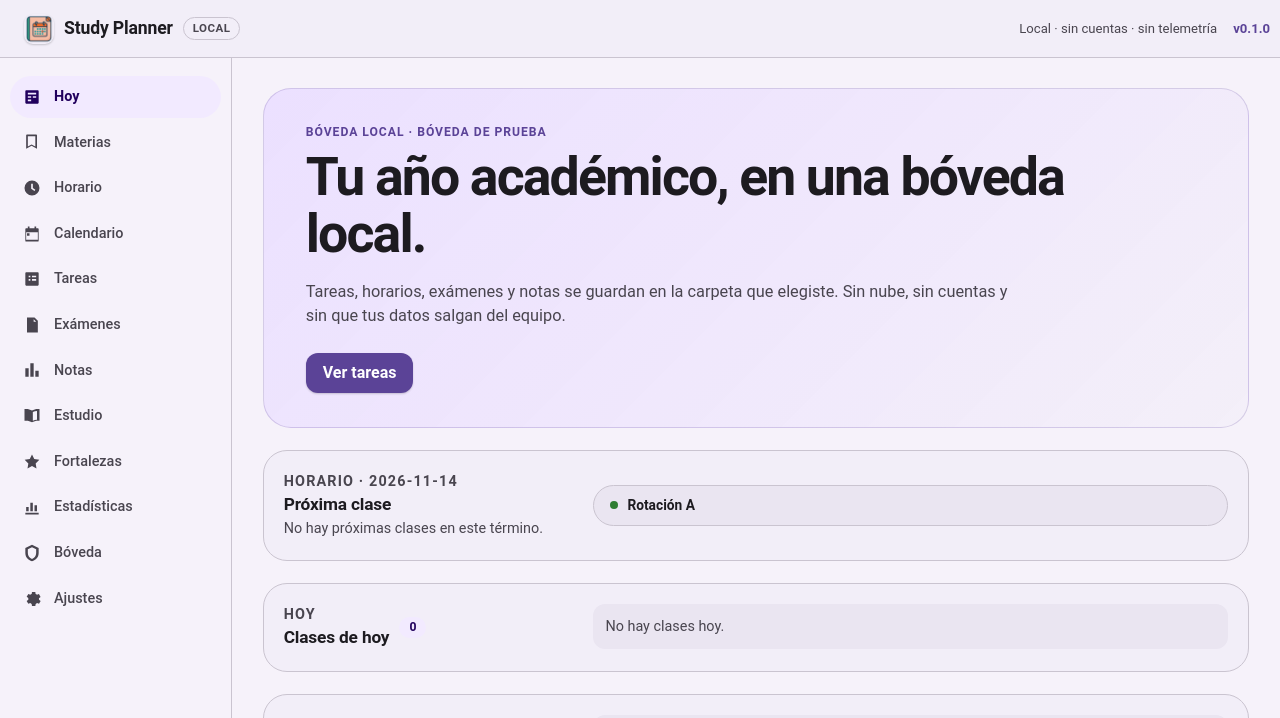
Test: App con IPC de Tauri › carga la semana y registra asistencia desde Horario
What coordinates should you click on to do the following:
click the button "Horario"
I would click on:
 (116, 188)
Its box is [10,167,221,209].
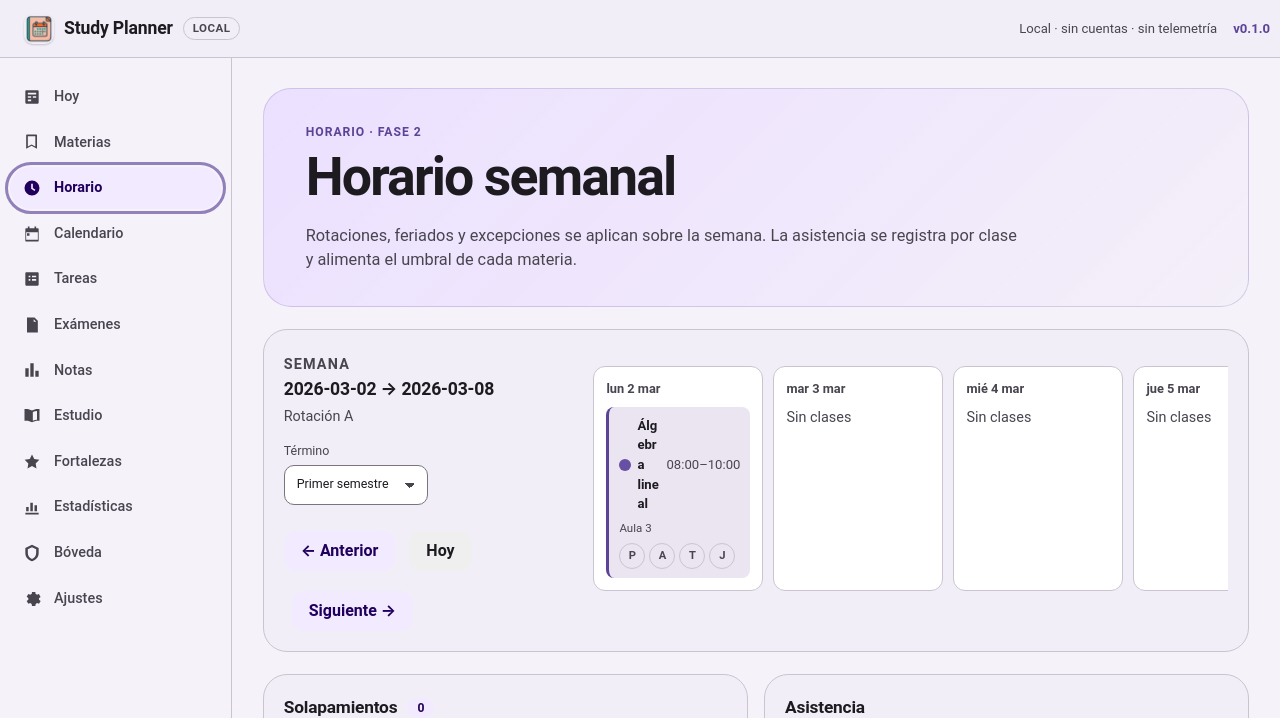
Expected: the text "Rotación A" is shown, [284,408,354,425]
Result: the heading "Horario semanal" is shown at [306,145,675,208]
Result: the heading "2026-03-02 → 2026-03-08" is shown at [284,376,494,402]
What coordinates should you click on to do the following:
click the button named "Marcar presente «Álgebra lineal» 2026-03-02"
I would click on:
 (632, 556)
Its box is [619,543,645,569].
(page scrolled)
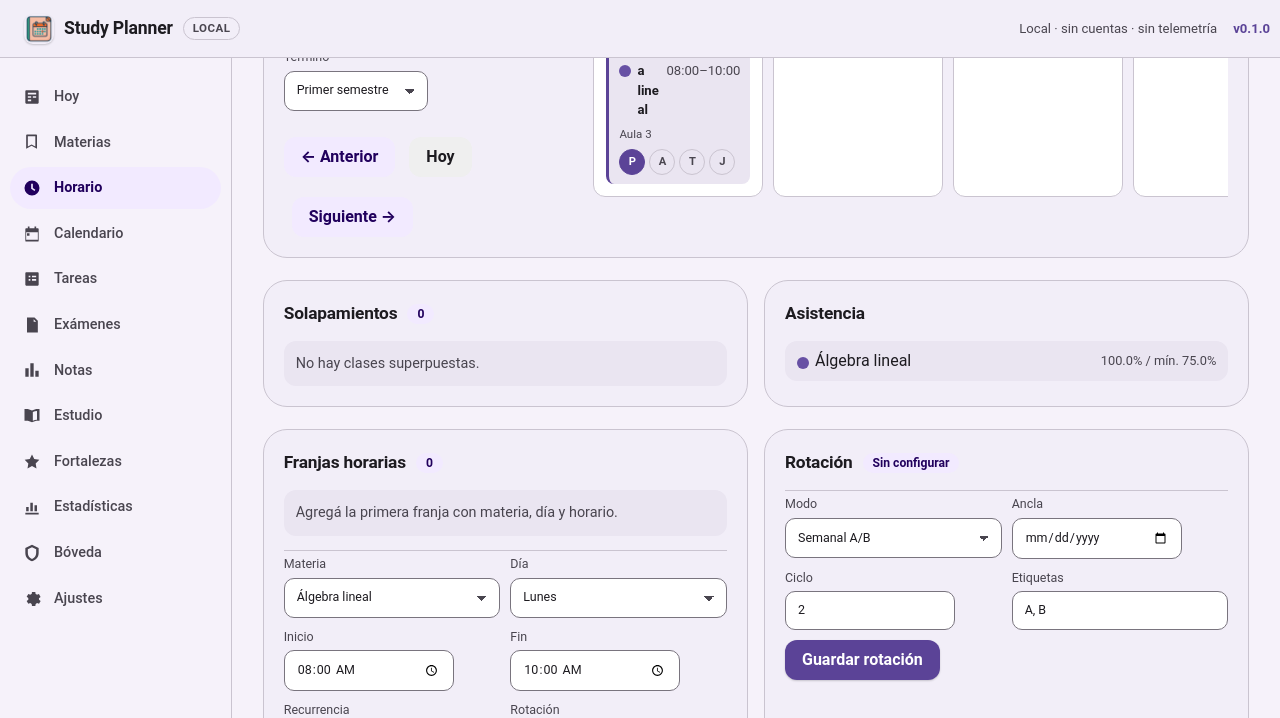
Expected: the button named "Marcar presente «Álgebra lineal» 2026-03-02" is shown, [619,149,645,175]
Result: the text "100.0% / mín. 75.0%" is shown at [1101,351,1216,370]
